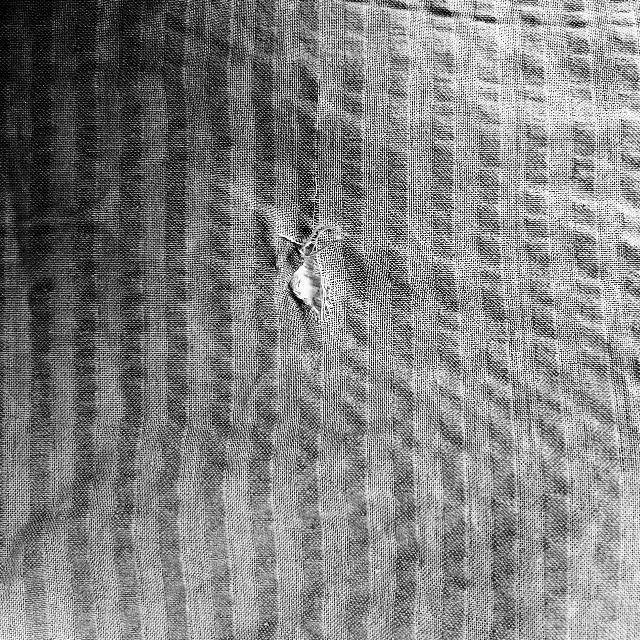Hole: (264, 240, 359, 332)
